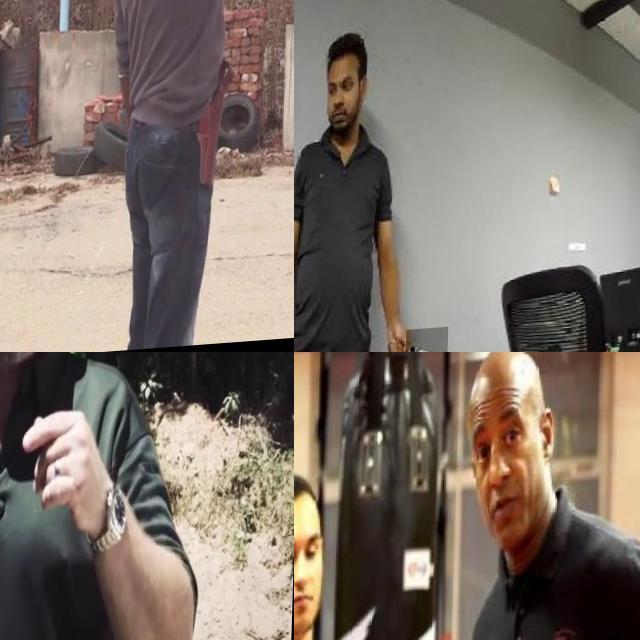-: (407, 330, 451, 352)
gun-knife-thesis - v11 Yolov5 augmented: (0, 457, 60, 632)
